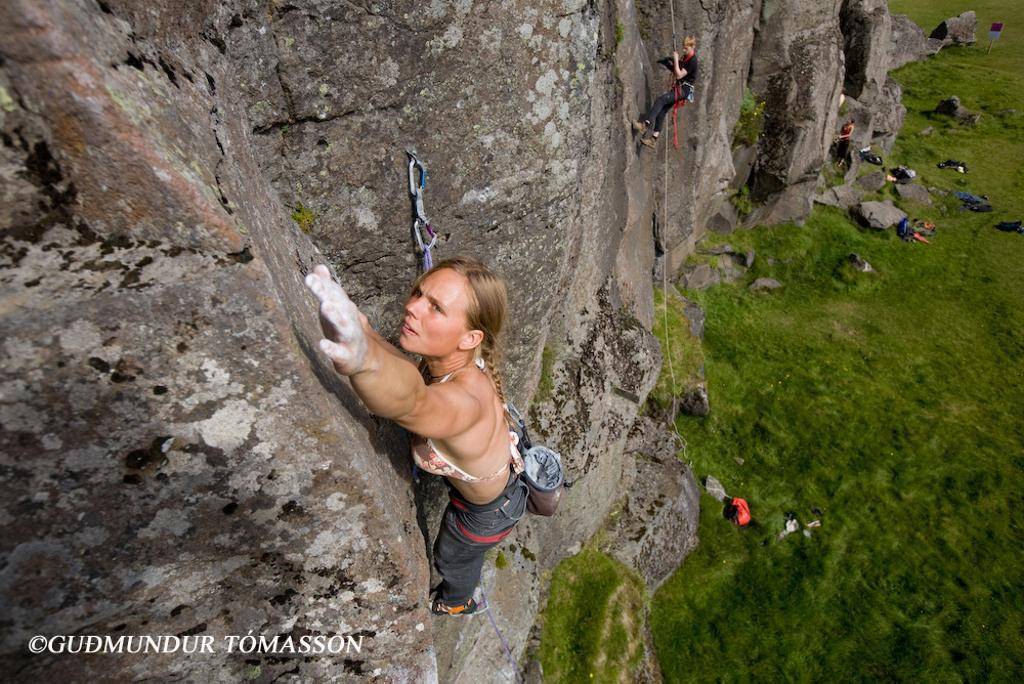face: (403, 273, 469, 361)
